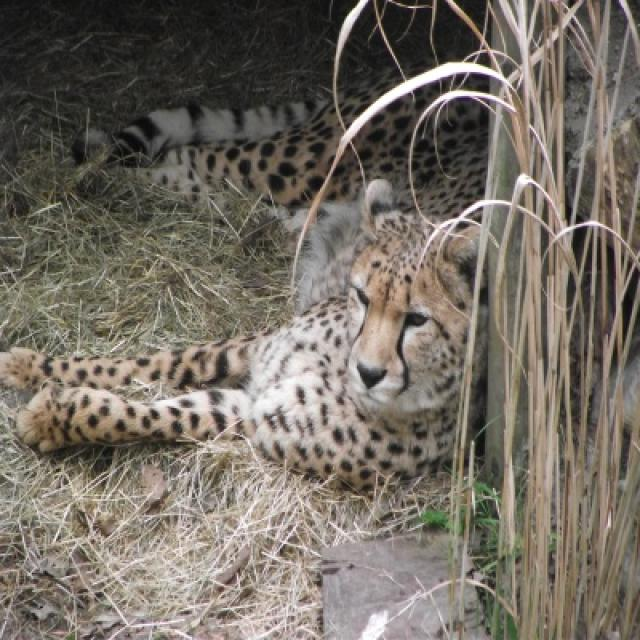Cheetah: (0, 71, 484, 487)
